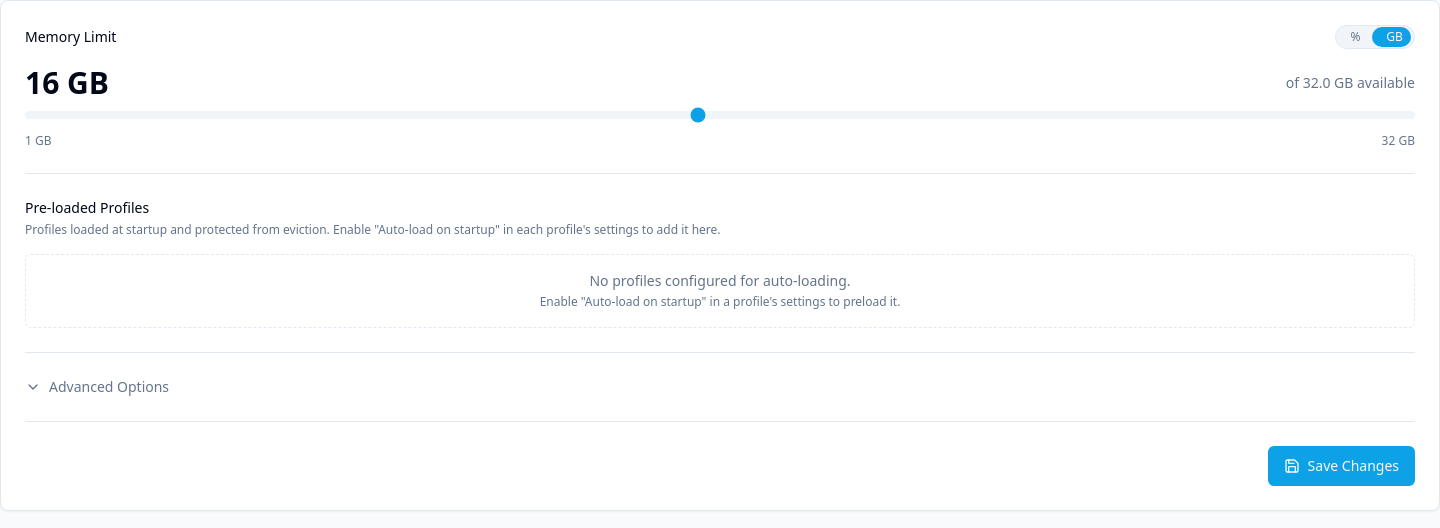
Test case: ModelPoolSettings › memory mode toggle › switches from GB to percent mode
Expected: the text "16 GB" is shown, [25,65,109,101]
Click the button "% GB": (1375, 37) [1335,25,1415,49]
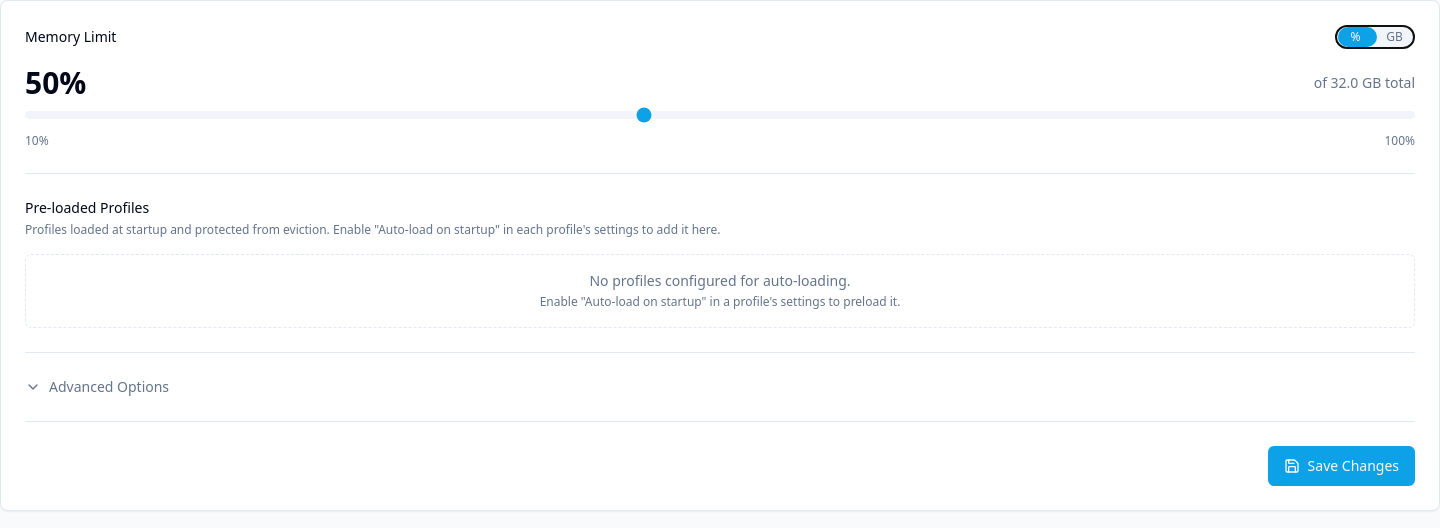
Expected: the text "50%" is shown, [25,65,86,101]
